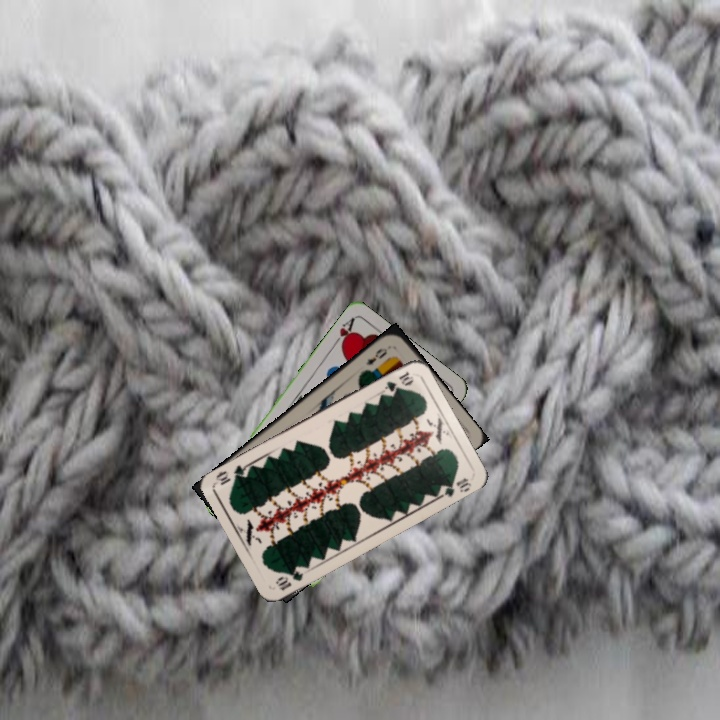EO: (362, 342, 393, 368)
G10: (378, 367, 417, 395), (271, 565, 306, 593)
HA: (329, 314, 357, 350)
